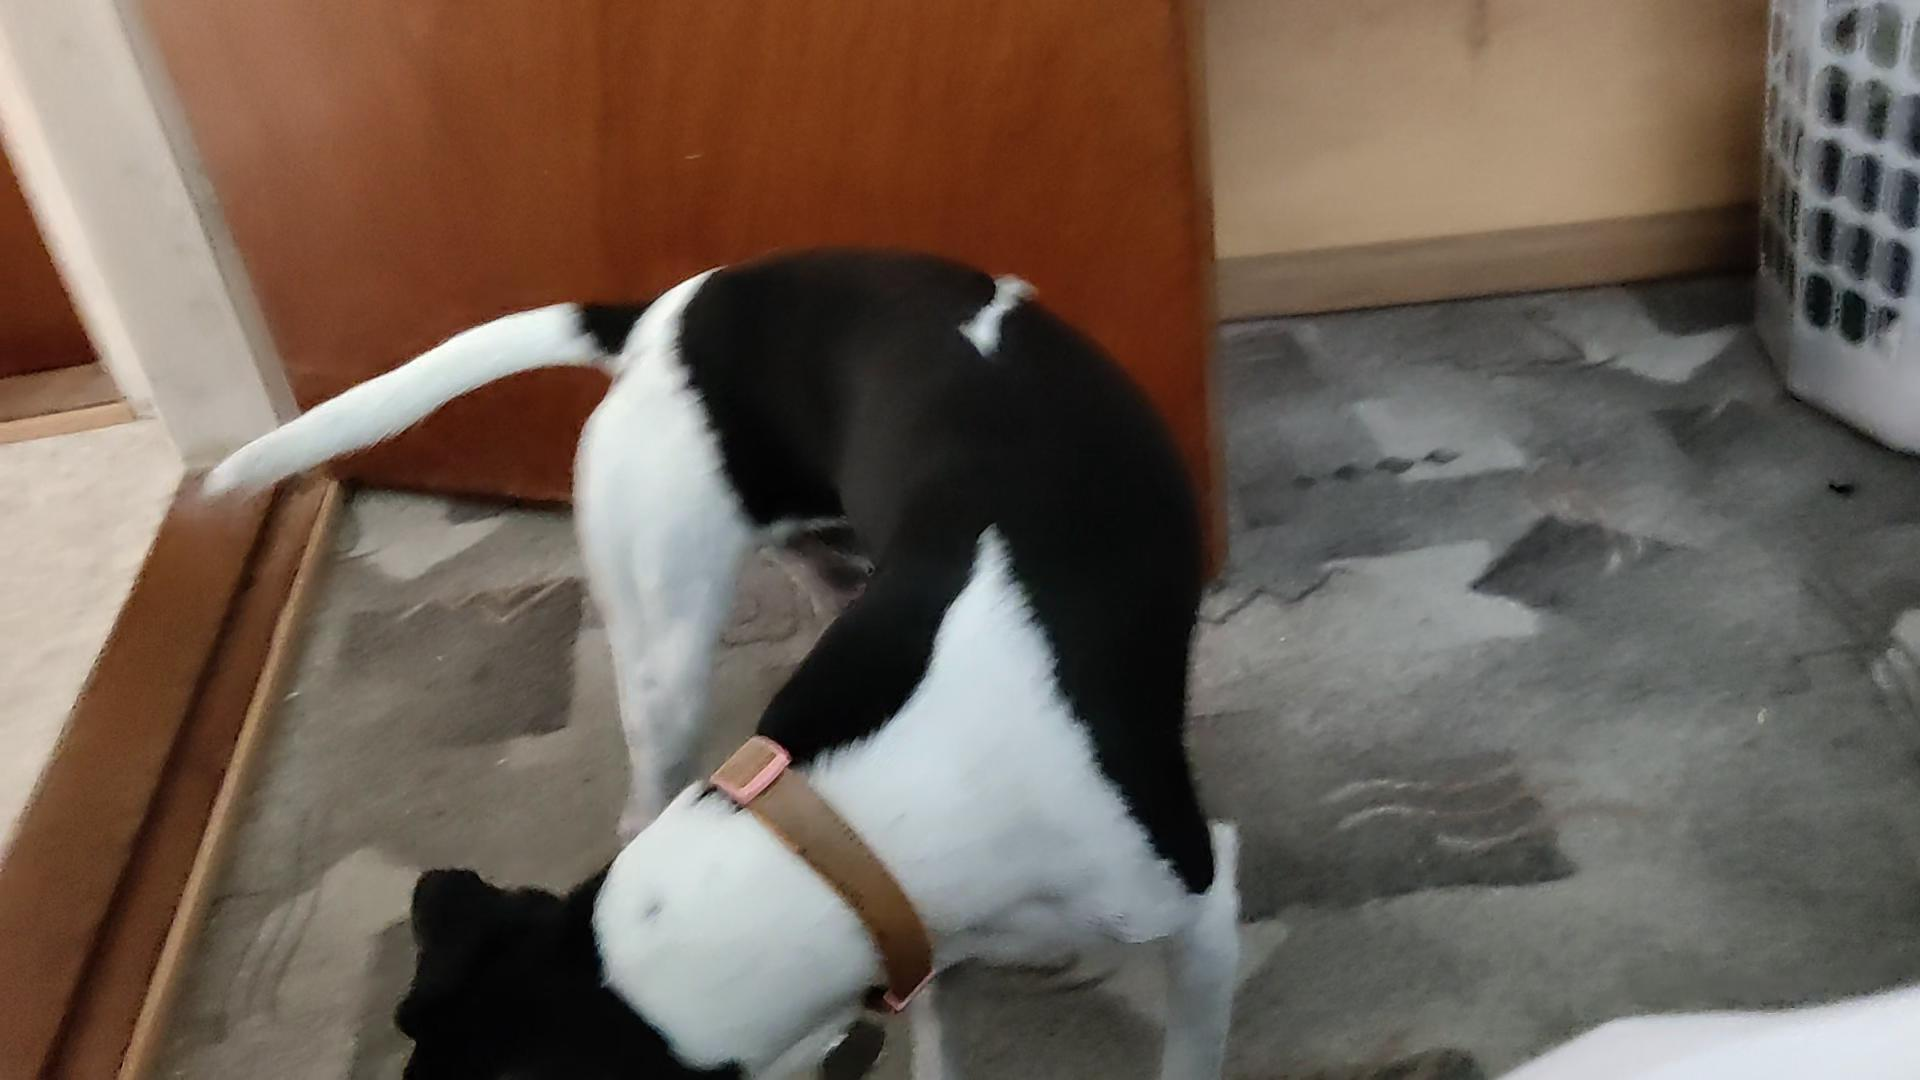Dog: (174, 211, 1284, 1079)
